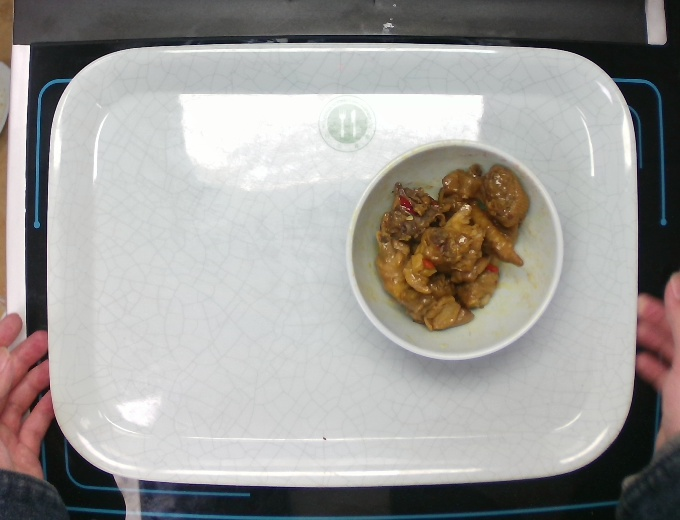JYsf-Fan_Wan: (341, 137, 570, 367)
